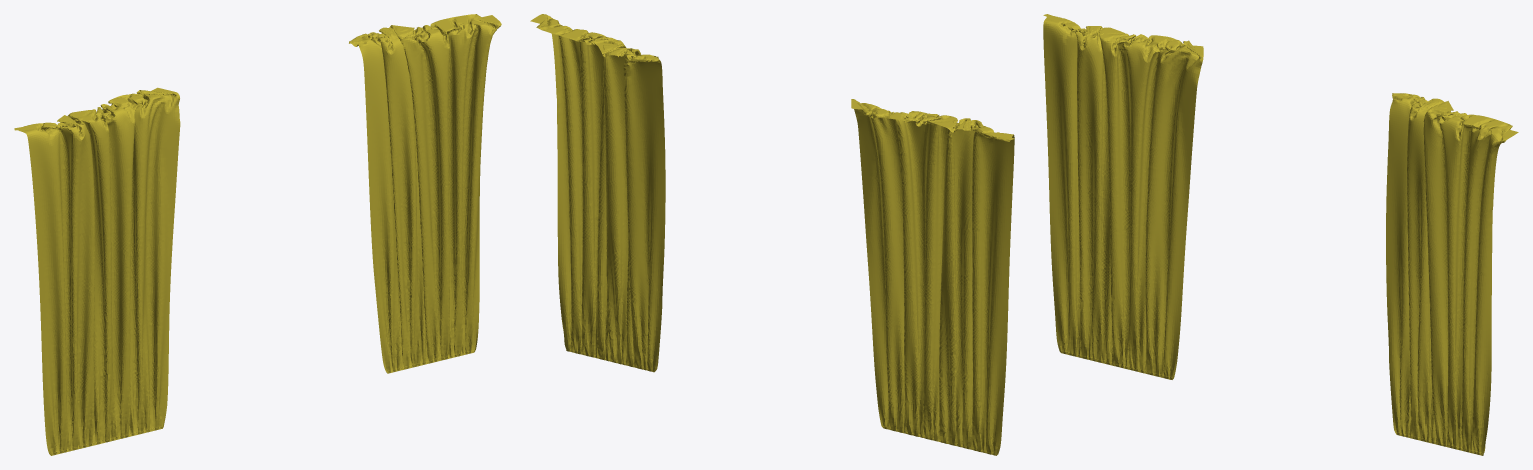
The model's file is curtain.fbx.
3 renders of one model, left to right at view 1: azimuth 30°, elevation 25°; view 2: azimuth 150°, elevation 25°; view 3: azimuth 330°, elevation 25°, orthographic.
Visible parts, largest first — view 1: curtain; view 2: curtain; view 3: curtain.
Boxes of the visible parts, x1=… form: curtain: x1=14, y1=14, x2=501, y2=455; curtain: x1=530, y1=14, x2=1014, y2=455; curtain: x1=1043, y1=14, x2=1518, y2=455.
Bounding box in the file's own units: 10195 × 6644 × 1076.
